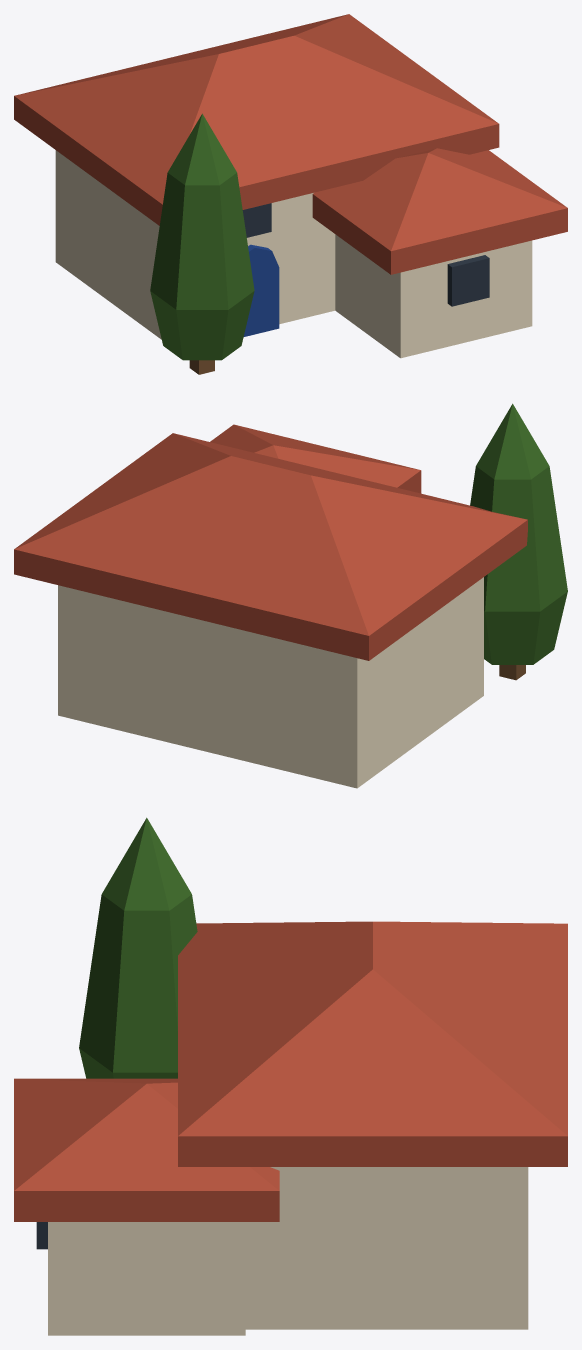
The model's file is house_1_a.glb.
3 views of the same model, one above another, from view 1: azimuth 30°, elevation 25°; view 2: azimuth 150°, elevation 25°; view 3: azimuth 270°, elevation 25° (orthographic). The views are drawn at different scales.
Parts seen in each view (by area): view 1: house_1_a; view 2: house_1_a; view 3: house_1_a.
Part boxes in pixels (<box>): house_1_a: <box>14,14,567,374</box>; house_1_a: <box>14,403,567,788</box>; house_1_a: <box>14,817,567,1335</box>.
Bounding box in the file's own units: 0.1878 × 0.13 × 0.196.
